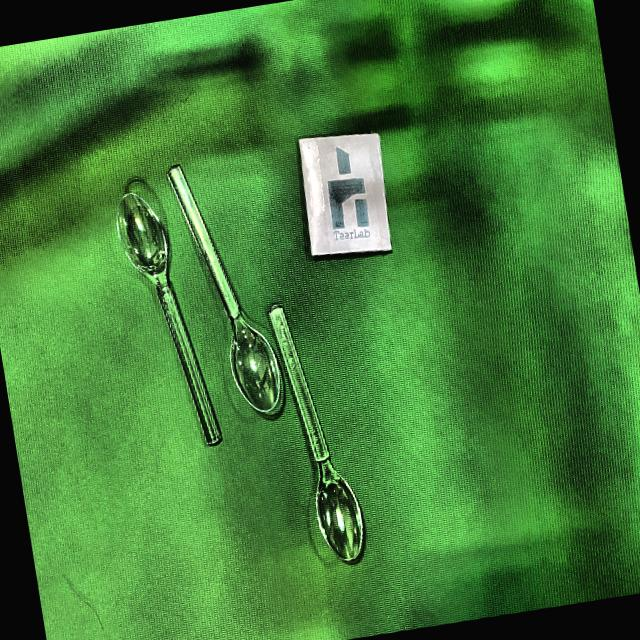plastic utensil: (164, 157, 285, 424), (115, 189, 225, 450), (269, 302, 370, 566)
